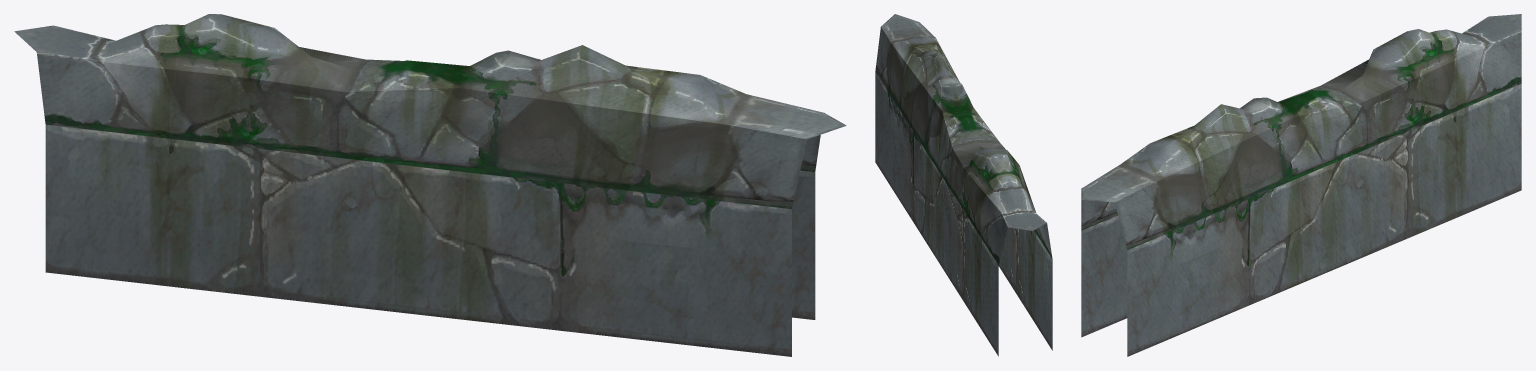
File: stemple_quarter_diagonal_03.fbx
The picture shows the model from 3 angles, left to right: view 1: azimuth 30°, elevation 25°; view 2: azimuth 150°, elevation 25°; view 3: azimuth 270°, elevation 25°; orthographic projection. The views are drawn at different scales.
Visible parts, largest first — view 1: stemple_quarter_diagonal_03-0; view 2: stemple_quarter_diagonal_03-0; view 3: stemple_quarter_diagonal_03-0.
Part boxes in pixels (box(x1,y1,x2,y2)): stemple_quarter_diagonal_03-0: box(14, 14, 846, 356); stemple_quarter_diagonal_03-0: box(875, 14, 1052, 356); stemple_quarter_diagonal_03-0: box(1081, 14, 1521, 356).
Bounding box in the file's own units: 4 × 1.94 × 4.
